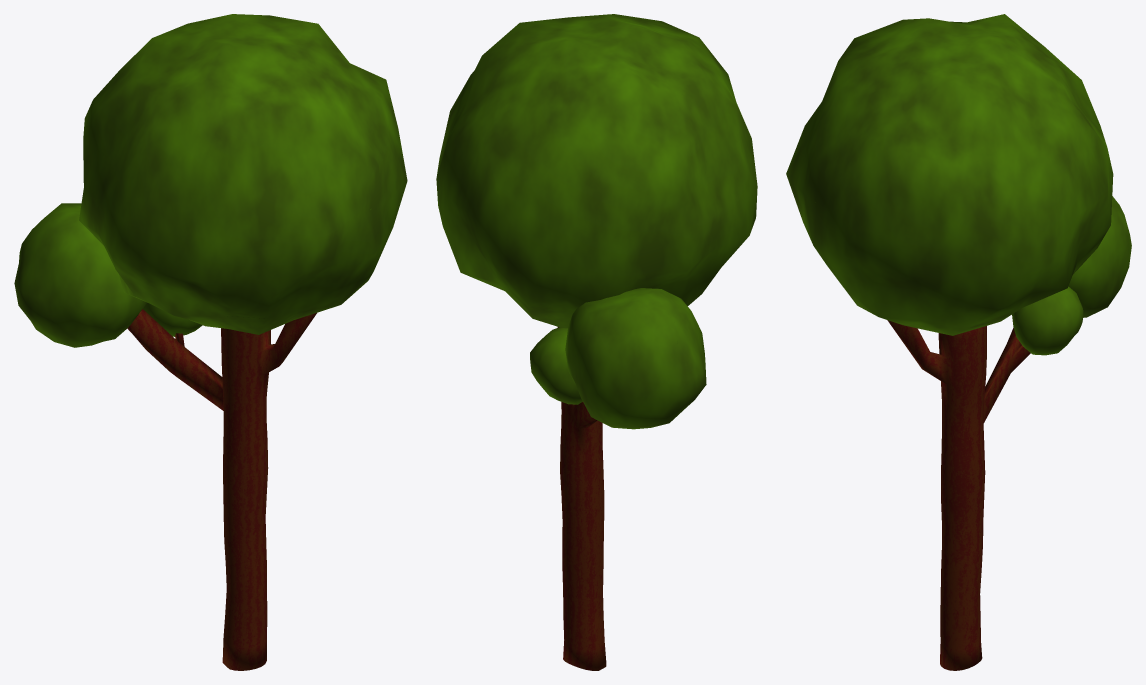
The model's file is Oak.fbx.
3 renders of one model, left to right at view 1: azimuth 30°, elevation 25°; view 2: azimuth 150°, elevation 25°; view 3: azimuth 270°, elevation 25°, orthographic.
Visible parts, largest first — view 1: Oak; view 2: Oak; view 3: Oak.
Part boxes in pixels (x1,y1,x2,y2): Oak: (14,14,407,670); Oak: (436,14,757,670); Oak: (786,14,1131,670).
Size of the model in its own units: 253 by 518 by 258.
2 materials, 2 textured.
